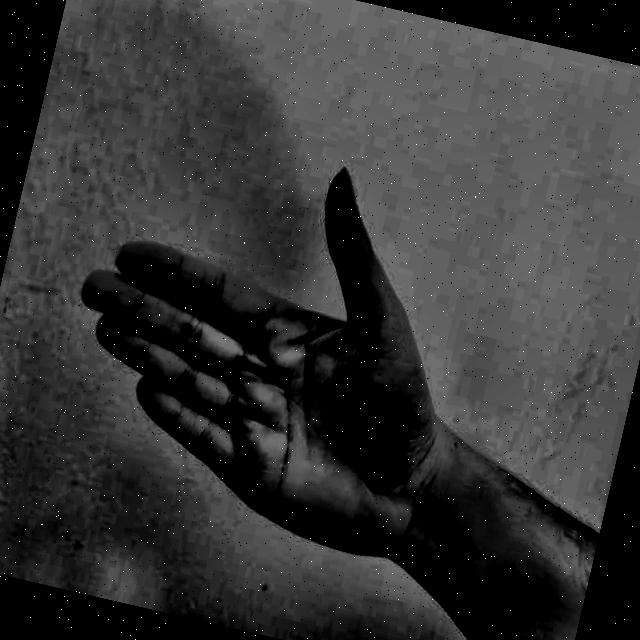Aa: (4, 93, 485, 586)
